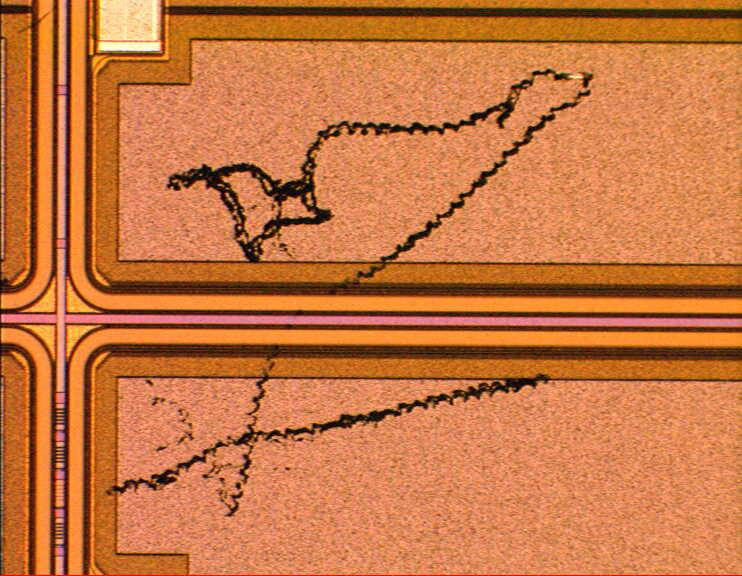SCRATCH: (99, 59, 601, 524)
